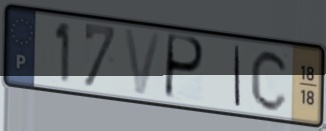1: (52, 20, 71, 86)
7: (82, 21, 117, 92)
C: (249, 47, 292, 114)
I: (232, 43, 242, 109)
P: (162, 32, 207, 103)
V: (122, 26, 165, 98)
